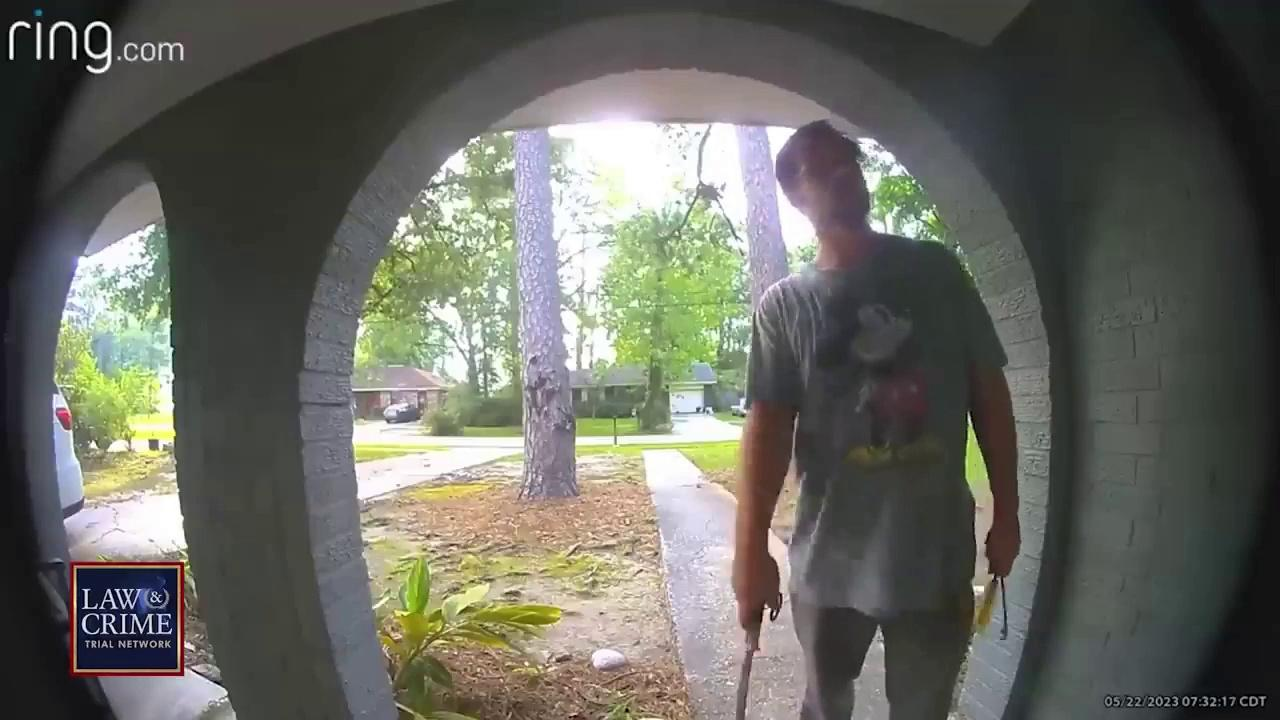suspicion: (720, 112, 1036, 720)
